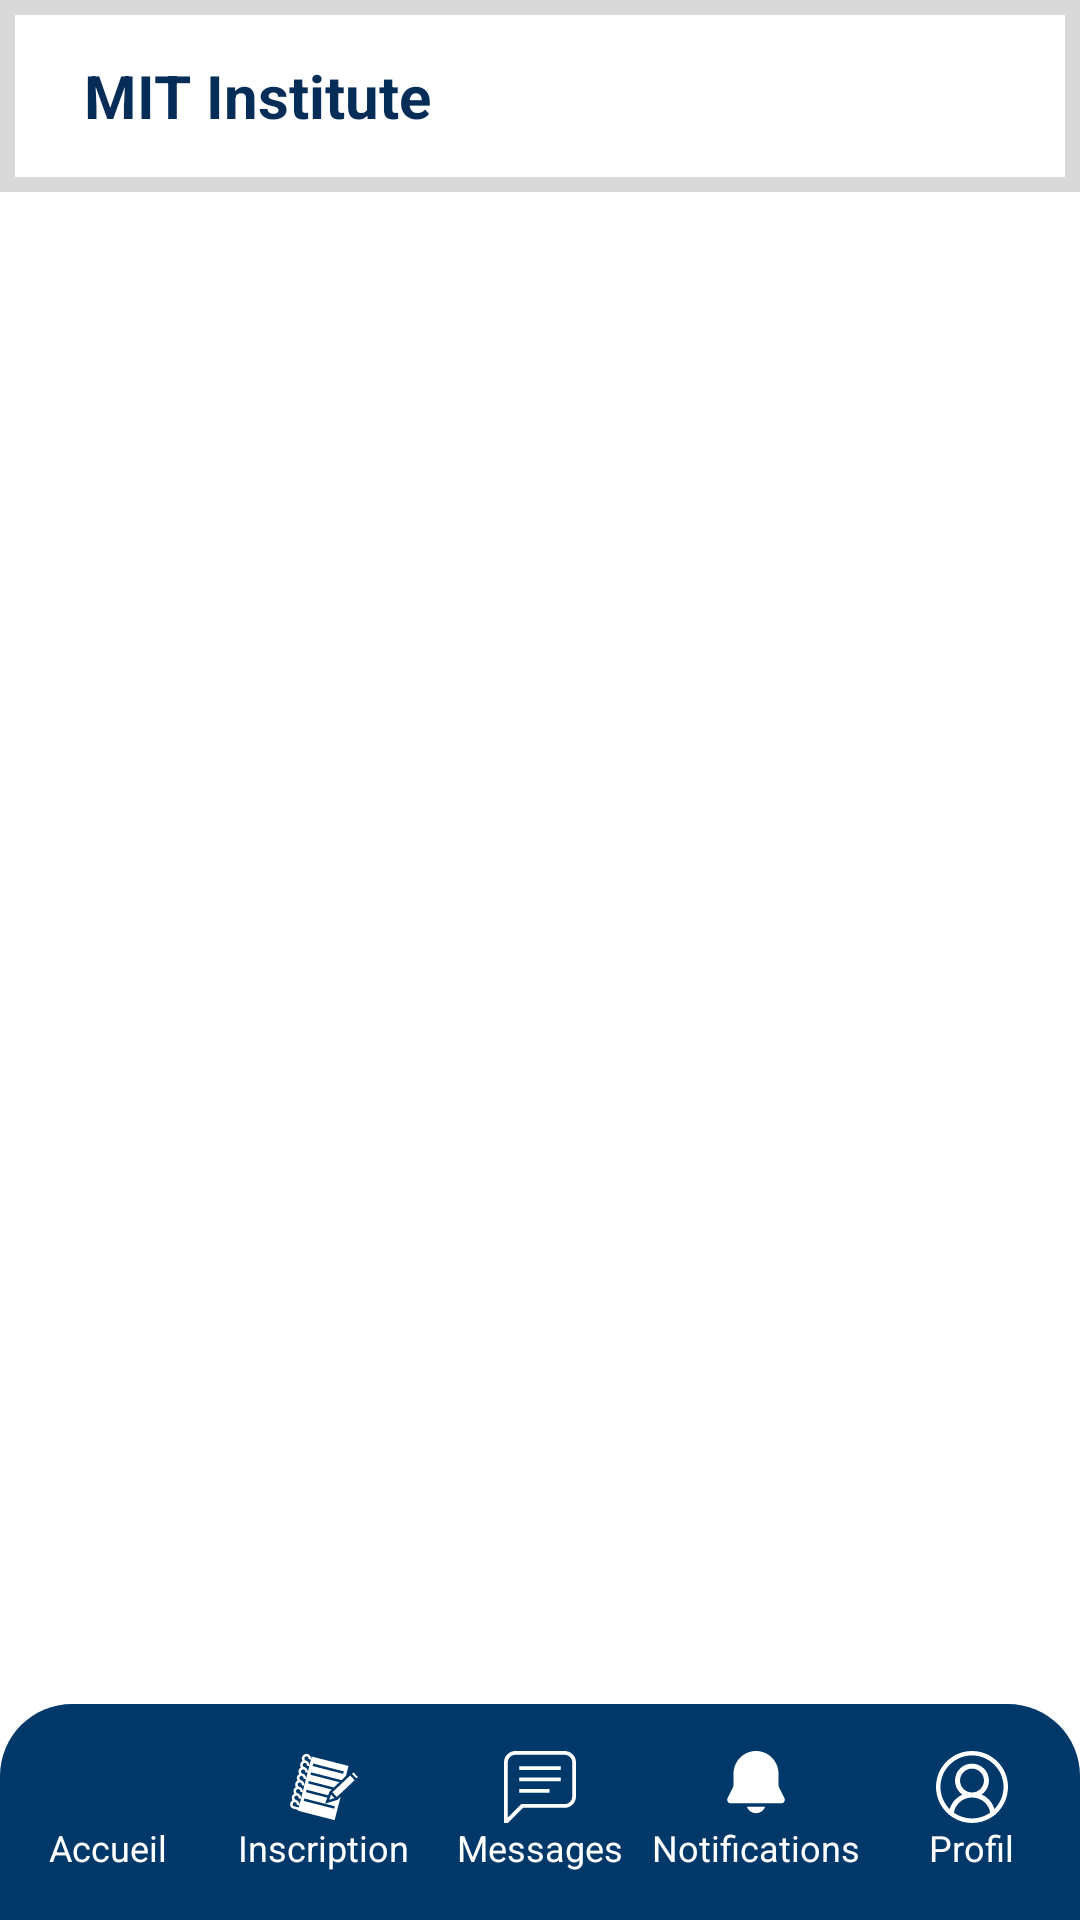

Locate icon controls on the screen. Image size 1080×1920, boxes as bbox(x1, y1, x2, y2).
Notes: bbox(290, 1753, 358, 1820)
